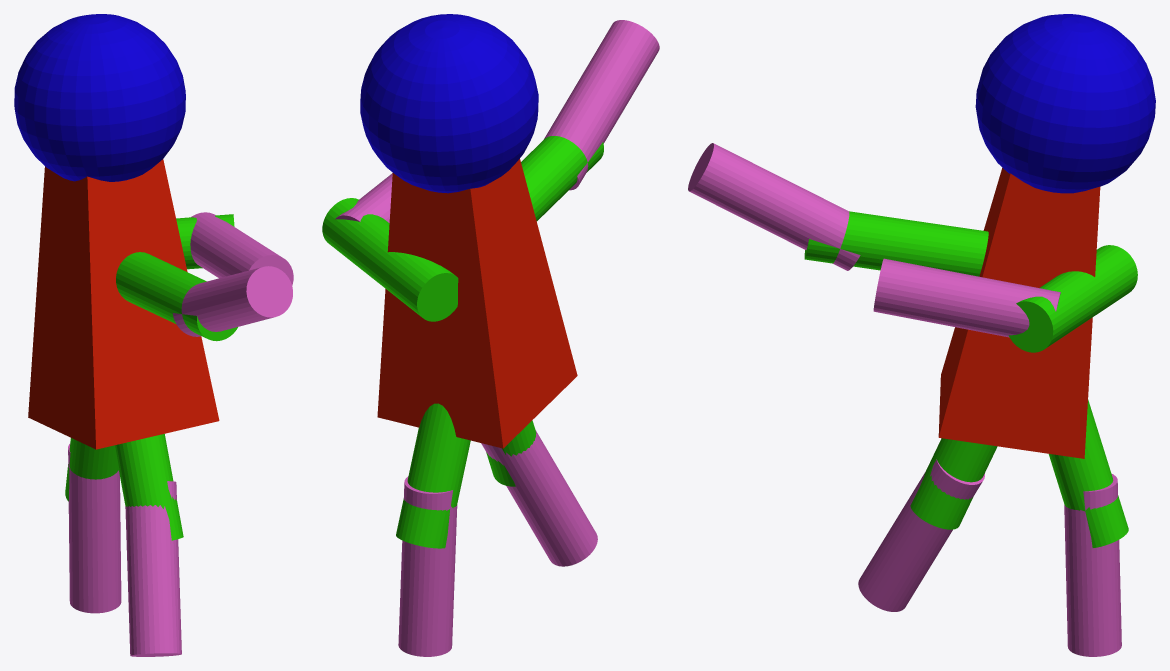
Rendered from human_nice_pose.fbx.
3 views of the same model, side by side, from view 1: azimuth 30°, elevation 25°; view 2: azimuth 150°, elevation 25°; view 3: azimuth 270°, elevation 25° (orthographic). The views are drawn at different scales.
Visible parts, largest first — view 1: Body, Head, LeftLeg, RightLeg, leftHand, LeftArm, LeftKnee, RightHand, RightKnee, RightArm; view 2: Body, Head, leftHand, RightLeg, RightArm, LeftLeg, RightKnee, LeftArm, RightHand, LeftKnee; view 3: Body, Head, leftHand, RightHand, RightLeg, LeftArm, LeftLeg, RightArm, RightKnee, LeftKnee.
Boxes of the visible parts, x1,y1,x2,y2 form: Body: [28, 159, 219, 449]; Head: [14, 14, 185, 181]; LeftLeg: [125, 481, 181, 656]; RightLeg: [68, 443, 121, 613]; leftHand: [172, 266, 292, 336]; LeftArm: [116, 252, 237, 341]; LeftKnee: [114, 434, 183, 540]; RightHand: [190, 212, 293, 285]; RightKnee: [65, 438, 118, 501]; RightArm: [176, 214, 234, 269]; Body: [377, 159, 577, 448]; Head: [360, 14, 538, 193]; leftHand: [544, 20, 659, 190]; RightLeg: [398, 476, 457, 656]; RightArm: [322, 198, 458, 321]; LeftLeg: [481, 430, 597, 566]; RightKnee: [396, 403, 470, 548]; LeftArm: [521, 136, 603, 221]; RightHand: [335, 173, 392, 222]; LeftKnee: [486, 420, 536, 486]; Body: [938, 168, 1100, 458]; Head: [975, 14, 1155, 193]; leftHand: [688, 143, 860, 270]; RightHand: [873, 258, 1060, 337]; RightLeg: [1064, 474, 1121, 656]; LeftArm: [804, 211, 988, 276]; LeftLeg: [858, 459, 984, 611]; RightArm: [1008, 245, 1137, 352]; RightKnee: [1048, 399, 1128, 547]; LeftKnee: [910, 438, 997, 529].
Bounding box in the file's own units: 272 × 758 × 519.
